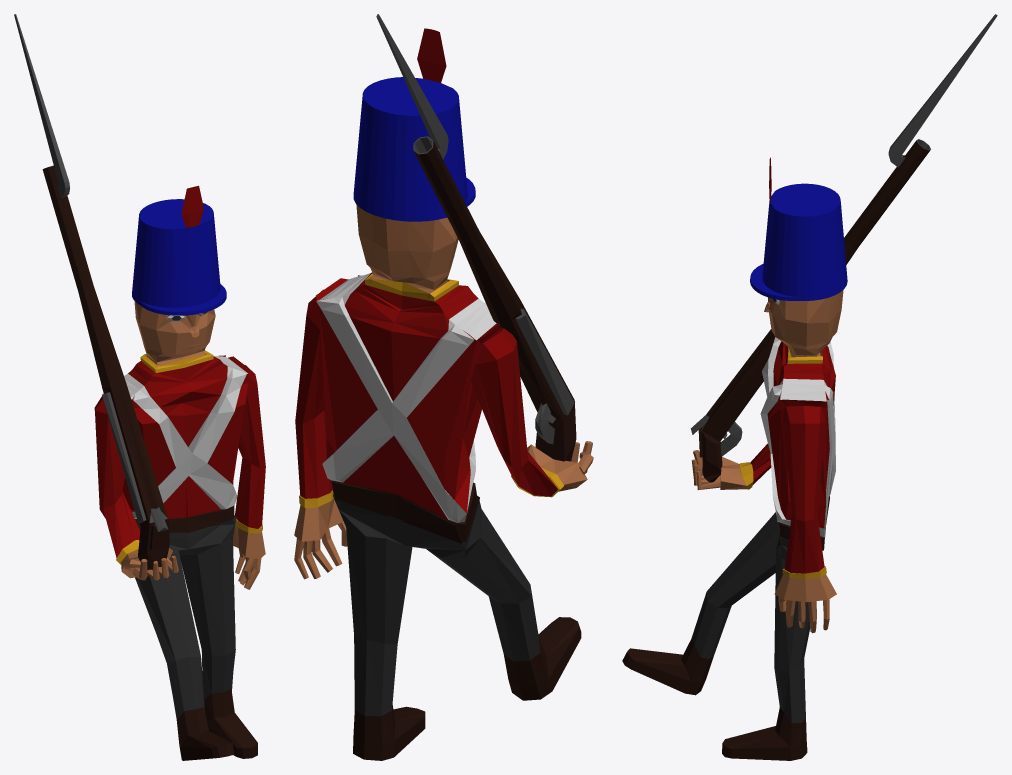
The model's file is Infantry_000170.obj.
3 views of the same model, side by side, from view 1: azimuth 30°, elevation 25°; view 2: azimuth 150°, elevation 25°; view 3: azimuth 270°, elevation 25° (orthographic). The views are drawn at different scales.
Visible parts, largest first — view 1: {Man}_Circle, {Mesket}_Cube.001; view 2: {Man}_Circle, {Mesket}_Cube.001; view 3: {Man}_Circle, {Mesket}_Cube.001.
Boxes of the visible parts, x1,y1,x2,y2 form: {Man}_Circle: (94, 185, 265, 760); {Mesket}_Cube.001: (14, 14, 169, 570); {Man}_Circle: (294, 28, 593, 760); {Mesket}_Cube.001: (376, 14, 576, 461); {Man}_Circle: (622, 157, 847, 760); {Mesket}_Cube.001: (690, 14, 997, 482).
Bounding box in the file's own units: 5.63 × 19.62 × 9.7.
